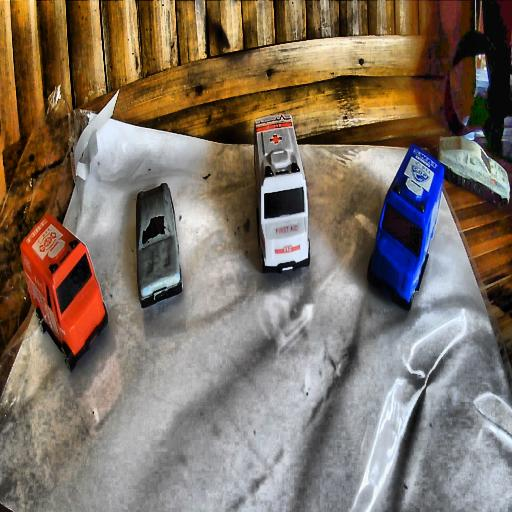ambulance: (254, 113, 310, 274)
fire_truck: (20, 215, 110, 373)
normal_car: (134, 182, 184, 308), (436, 136, 510, 207)
police car: (366, 144, 444, 312)
